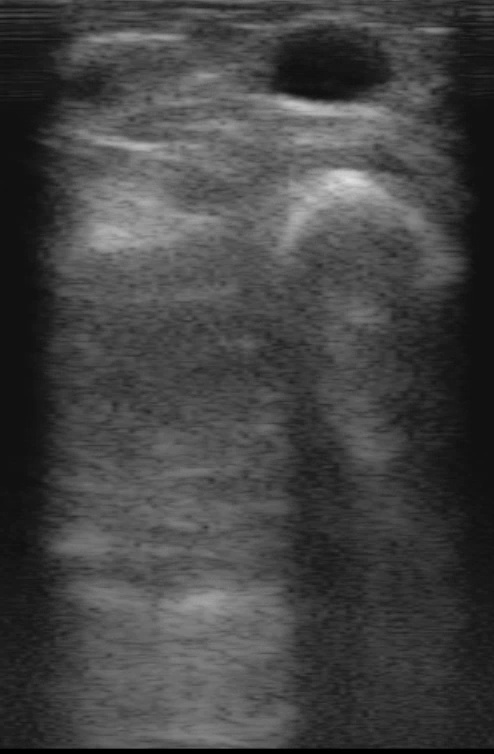veins_detect: (255, 17, 406, 113)
veins_seg: (263, 25, 391, 101)
